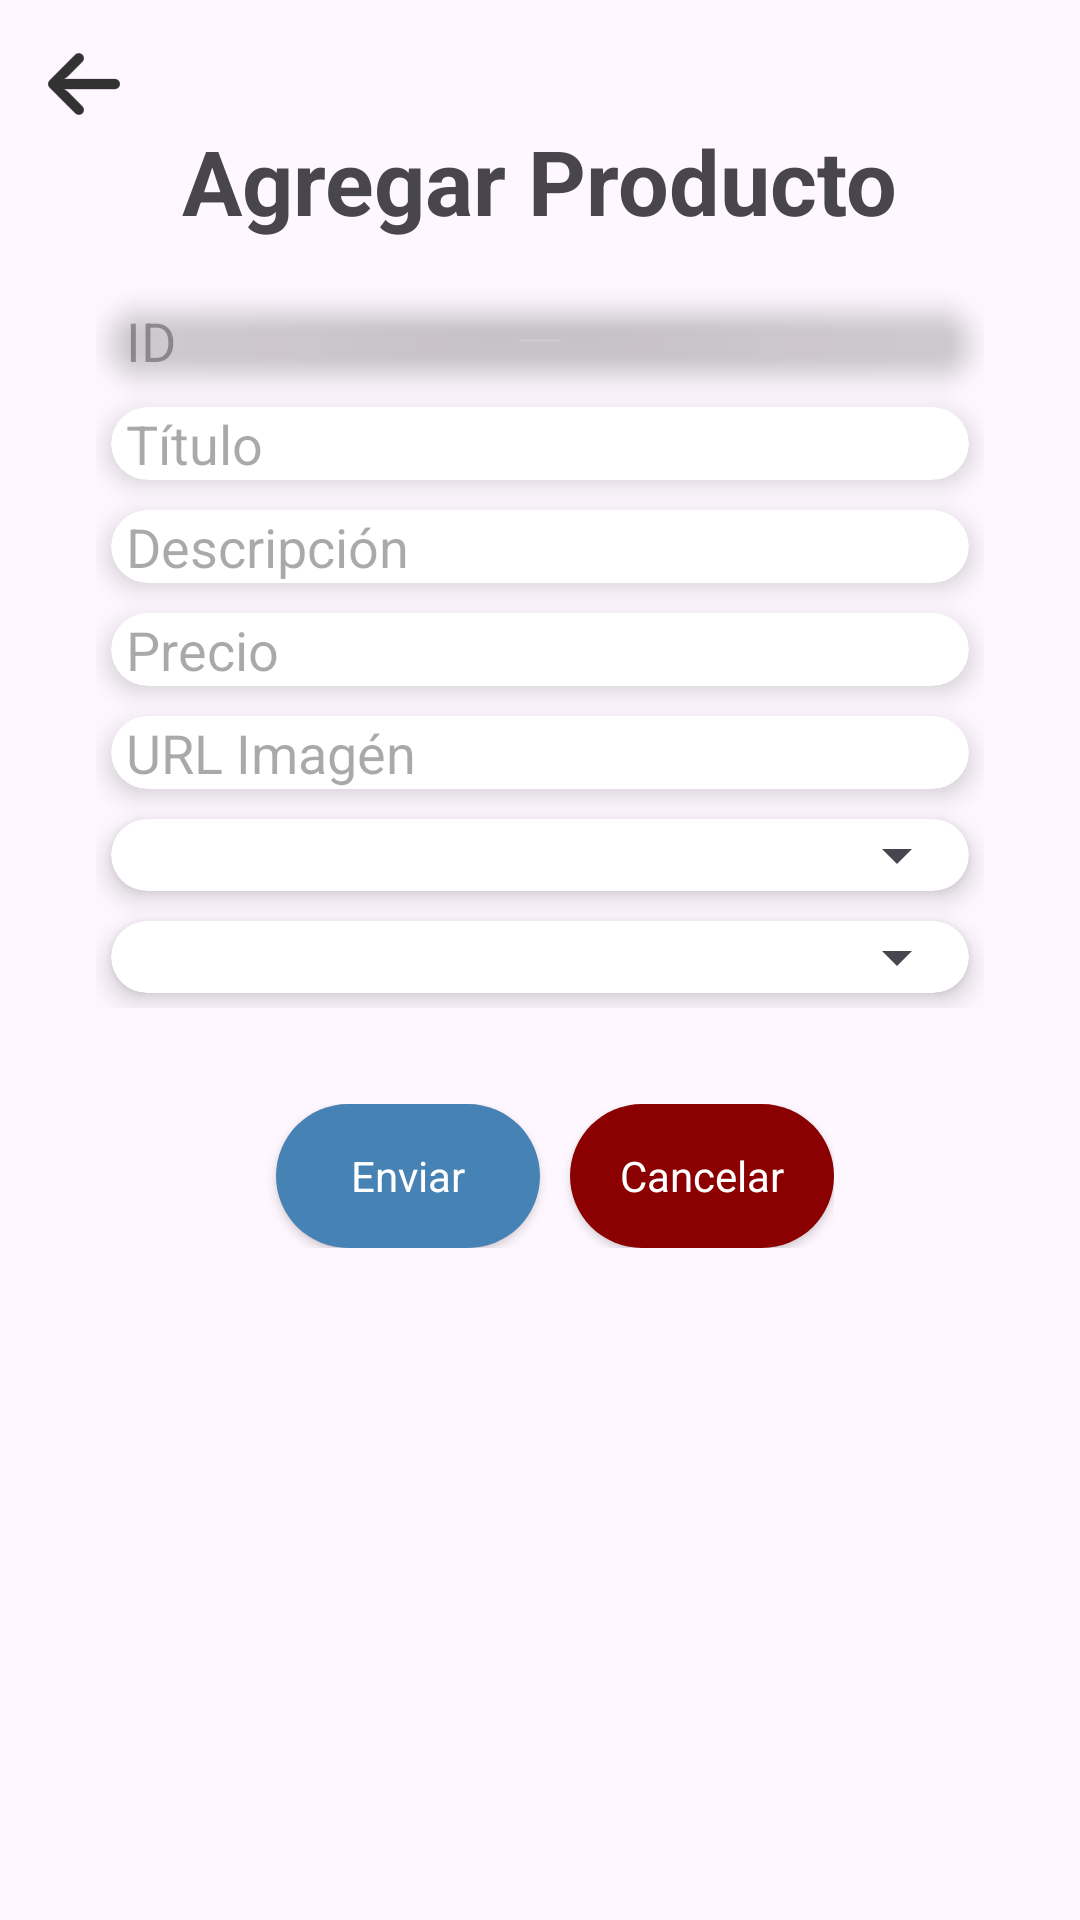

Icon click points for this 1080px×1920px phone screenshot, format [x,y]:
back: [84,84]
